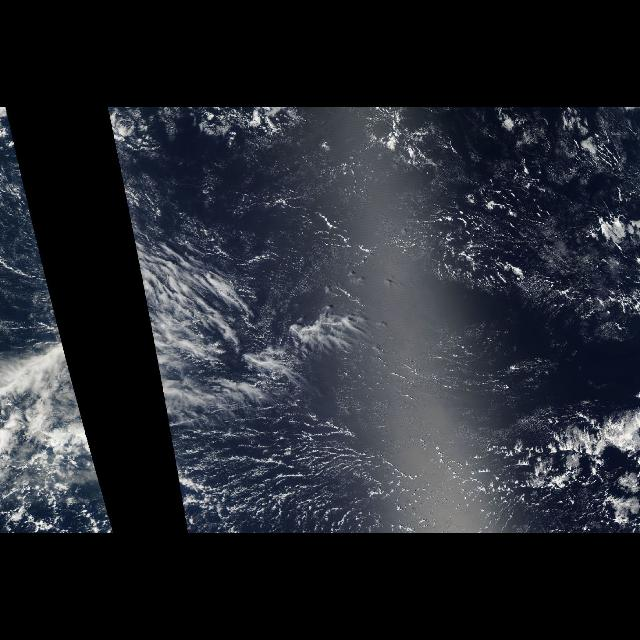Fish: (124, 203, 370, 492), (0, 203, 104, 492)
Sugar: (165, 115, 639, 533)
